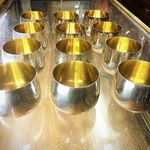cups: (48, 58, 103, 117), (1, 60, 44, 120), (110, 57, 150, 115), (100, 36, 144, 78), (1, 36, 47, 75), (51, 37, 95, 68)
